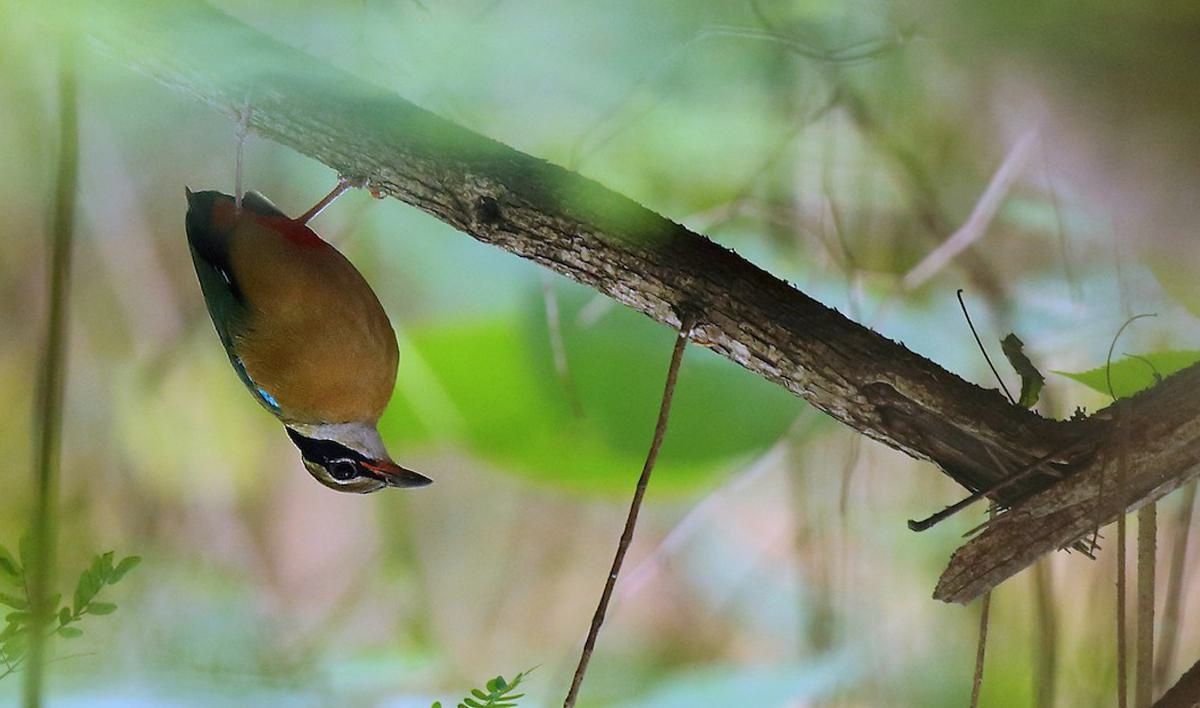pitta: (173, 88, 444, 526)
